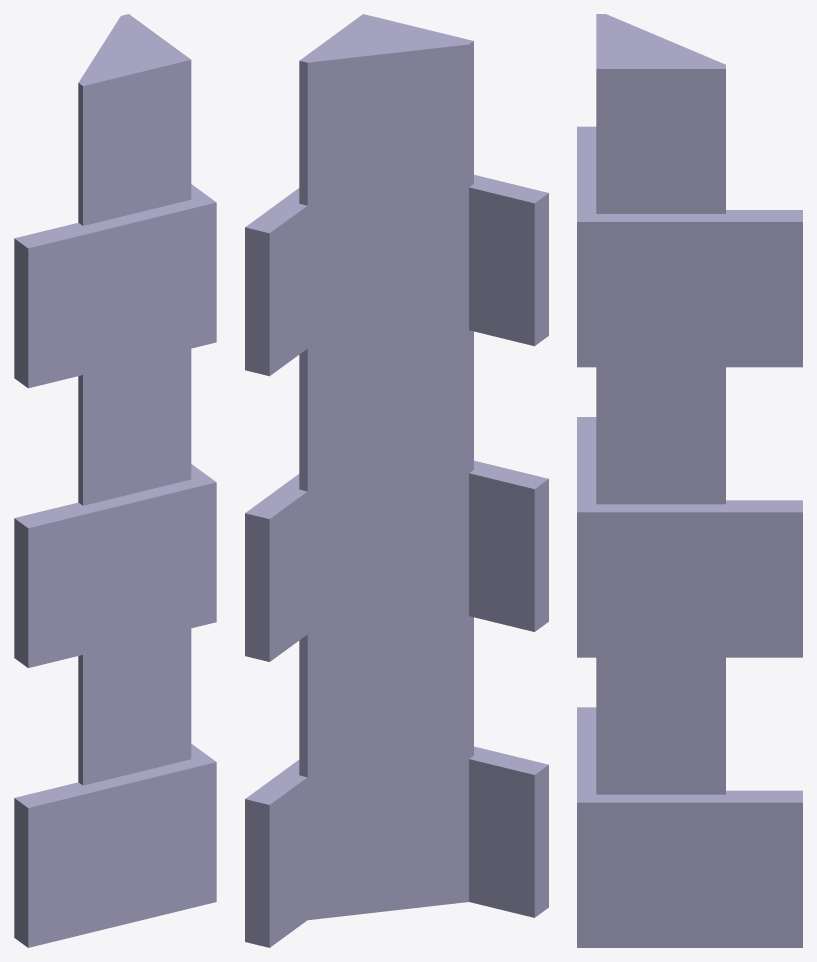
File: quoin_long.fbx
The picture shows the model from 3 angles, left to right: view 1: azimuth 30°, elevation 25°; view 2: azimuth 150°, elevation 25°; view 3: azimuth 270°, elevation 25°; orthographic projection. The views are drawn at different scales.
Visible parts, largest first — view 1: quoin_long; view 2: quoin_long; view 3: quoin_long.
Part boxes in pixels (x1=…): quoin_long: x1=14, y1=14, x2=216, y2=947; quoin_long: x1=245, y1=14, x2=548, y2=947; quoin_long: x1=577, y1=14, x2=802, y2=947.
Bounding box in the file's own units: 2.35 × 10 × 2.35.
